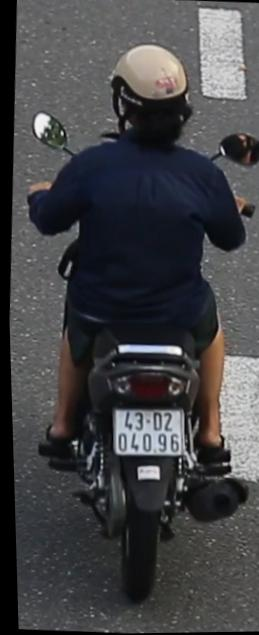LP: (104, 398, 185, 460)
helmet: (102, 34, 195, 153)
